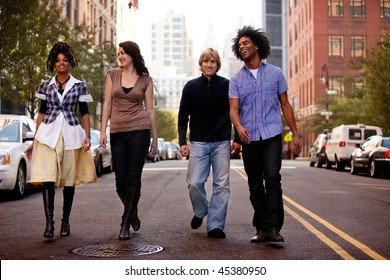person: (229, 27, 305, 248), (23, 40, 94, 244), (97, 38, 162, 243), (177, 46, 242, 243)
